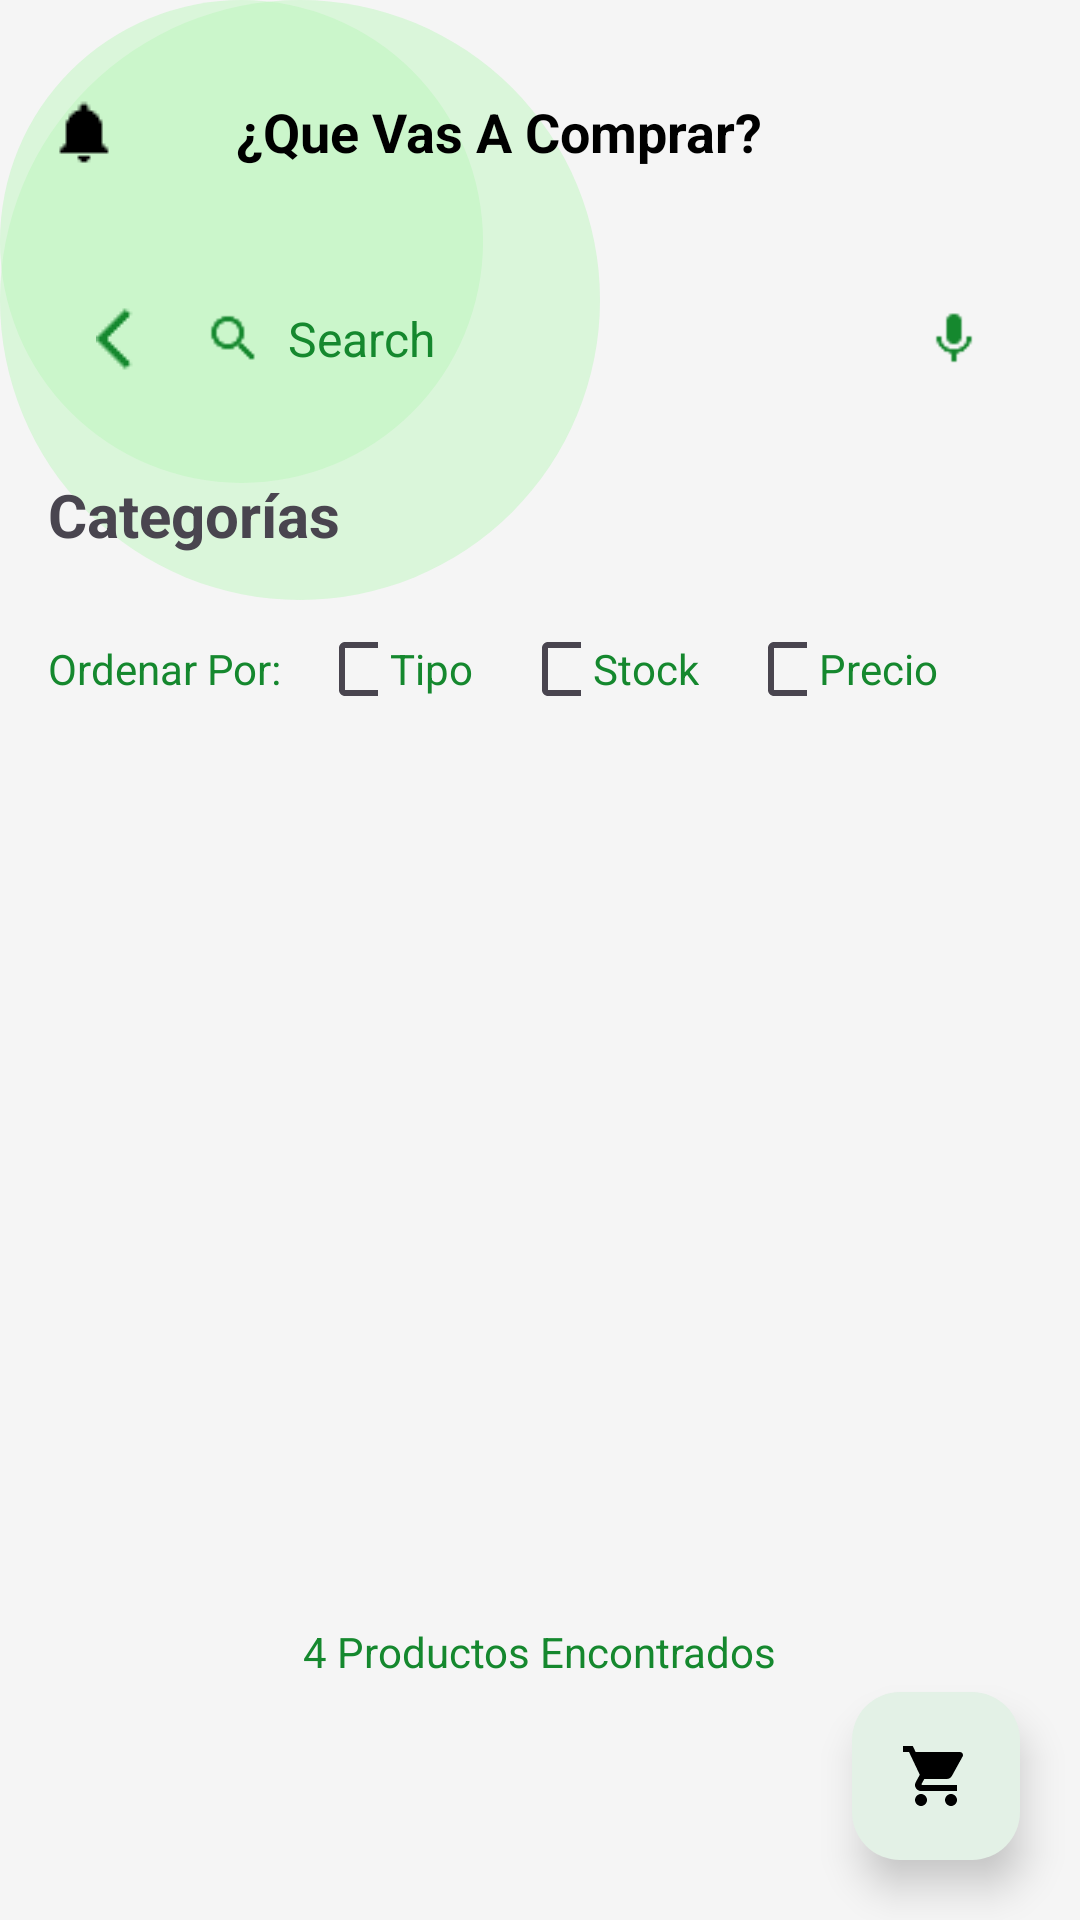

Icon bounding boxes for this 1080×1920 phone screenshot, format (x1, y1, x2, y2):
arrow back: (96, 308, 131, 370)
mic: (936, 313, 972, 362)
notifications: (59, 102, 109, 163)
shopping cart: (852, 1692, 1020, 1860)
